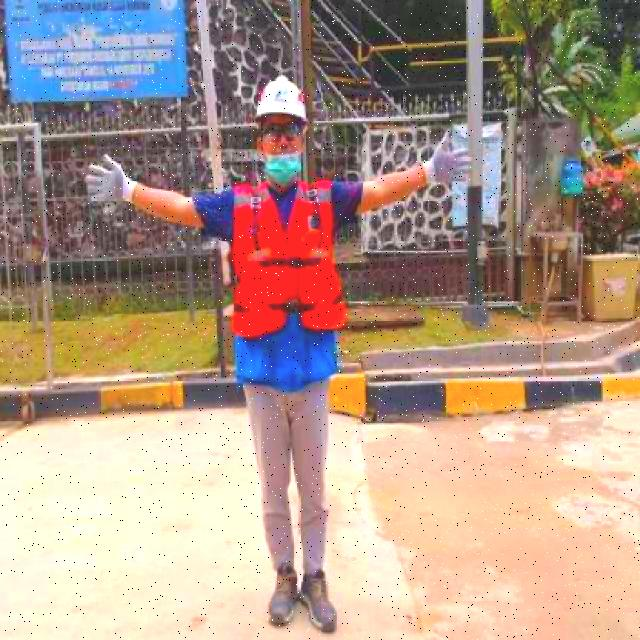Boots: (297, 570, 340, 635), (266, 562, 296, 630)
Gloves: (424, 124, 472, 196), (83, 152, 132, 212)
Helmet: (251, 77, 311, 123)
Mask: (231, 180, 351, 382)
